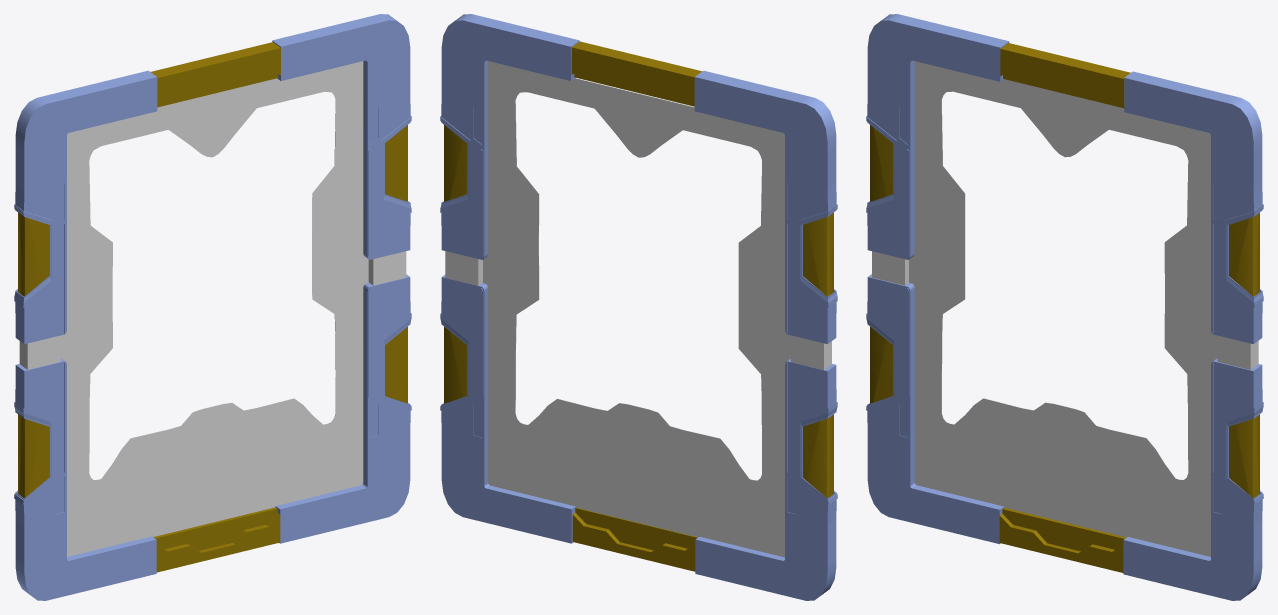
Rendered from SahLeBoss.fbx.
3 views of the same model, side by side, from view 1: azimuth 30°, elevation 25°; view 2: azimuth 150°, elevation 25°; view 3: azimuth 330°, elevation 25° (orthographic).
Visible parts, largest first — view 1: Card_Ethan_Interior, Card 1.006, Card 4.006, Card 2.006, Card 3.006, Test_Card_1.001, Test_Card_1.002, Test_Card_1.004, Test_Card_1.003, Cube.070, Cube.071, Contour 1.002 (+3 smaller); view 2: Card_Ethan_Interior, Card 1.006, Card 4.006, Card 2.006, Card 3.006, Test_Card_1.001, Test_Card_1.002, Test_Card_1.004, Test_Card_1.003, Cube.070, Cube.071, Contour 1.002 (+3 smaller); view 3: Card_Ethan_Interior, Card 2.006, Card 3.006, Card 1.006, Card 4.006, Test_Card_1.001, Test_Card_1.002, Test_Card_1.004, Test_Card_1.003, Cube.071, Contour 2.002, Contour 3.002 (+3 smaller).
Boxes of the visible parts, <box> form: Card_Ethan_Interior: <box>60,61,368,556</box>; Card 1.006: <box>14,70,157,344</box>; Card 4.006: <box>15,358,156,600</box>; Card 2.006: <box>272,14,411,259</box>; Card 3.006: <box>275,274,411,543</box>; Test_Card_1.001: <box>151,42,280,105</box>; Test_Card_1.002: <box>156,513,280,572</box>; Test_Card_1.004: <box>153,507,277,550</box>; Test_Card_1.003: <box>157,68,278,107</box>; Cube.070: <box>19,335,60,369</box>; Cube.071: <box>368,251,406,285</box>; Contour 1.002: <box>14,205,54,307</box>; Card_Ethan_Interior: <box>483,61,790,557</box>; Card 1.006: <box>694,70,837,344</box>; Card 4.006: <box>695,358,836,600</box>; Card 2.006: <box>440,14,579,259</box>; Card 3.006: <box>440,275,575,543</box>; Test_Card_1.001: <box>571,41,701,103</box>; Test_Card_1.002: <box>572,512,695,571</box>; Test_Card_1.004: <box>575,507,697,550</box>; Test_Card_1.003: <box>574,67,694,106</box>; Cube.070: <box>791,335,831,370</box>; Cube.071: <box>445,251,482,285</box>; Contour 1.002: <box>797,205,837,307</box>; Card_Ethan_Interior: <box>909,61,1217,556</box>; Card 2.006: <box>1124,71,1263,344</box>; Card 3.006: <box>1123,358,1262,600</box>; Card 1.006: <box>866,14,1009,259</box>; Card 4.006: <box>866,274,1004,544</box>; Test_Card_1.001: <box>1000,43,1130,106</box>; Test_Card_1.002: <box>999,513,1123,572</box>; Test_Card_1.004: <box>1002,507,1126,551</box>; Test_Card_1.003: <box>1003,68,1124,108</box>; Cube.071: <box>1217,335,1258,369</box>; Contour 2.002: <box>1223,205,1263,307</box>; Contour 3.002: <box>1223,402,1263,504</box>.
Bounding box in the file's own units: 188 × 230 × 8.07.
